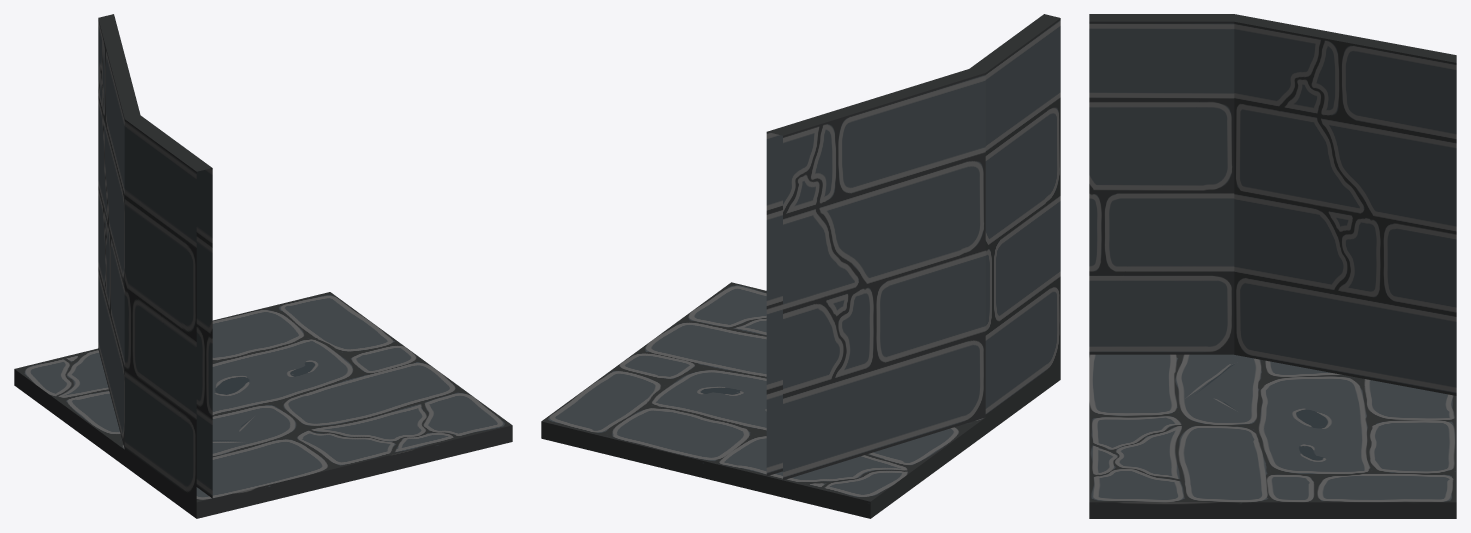
File: Wall-MCURVE-WNW_v1.2.fbx
3 renders of one model, left to right at view 1: azimuth 30°, elevation 25°; view 2: azimuth 150°, elevation 25°; view 3: azimuth 270°, elevation 25°, orthographic. The views are drawn at different scales.
Parts seen in each view (by area): view 1: Wall-MCURV-WNW; view 2: Wall-MCURV-WNW; view 3: Wall-MCURV-WNW.
Boxes of the visible parts, x1,y1,x2,y2 form: Wall-MCURV-WNW: (14, 14, 512, 518); Wall-MCURV-WNW: (541, 14, 1060, 518); Wall-MCURV-WNW: (1089, 14, 1456, 518).
Size of the model in its own units: 100 by 100 by 105.
